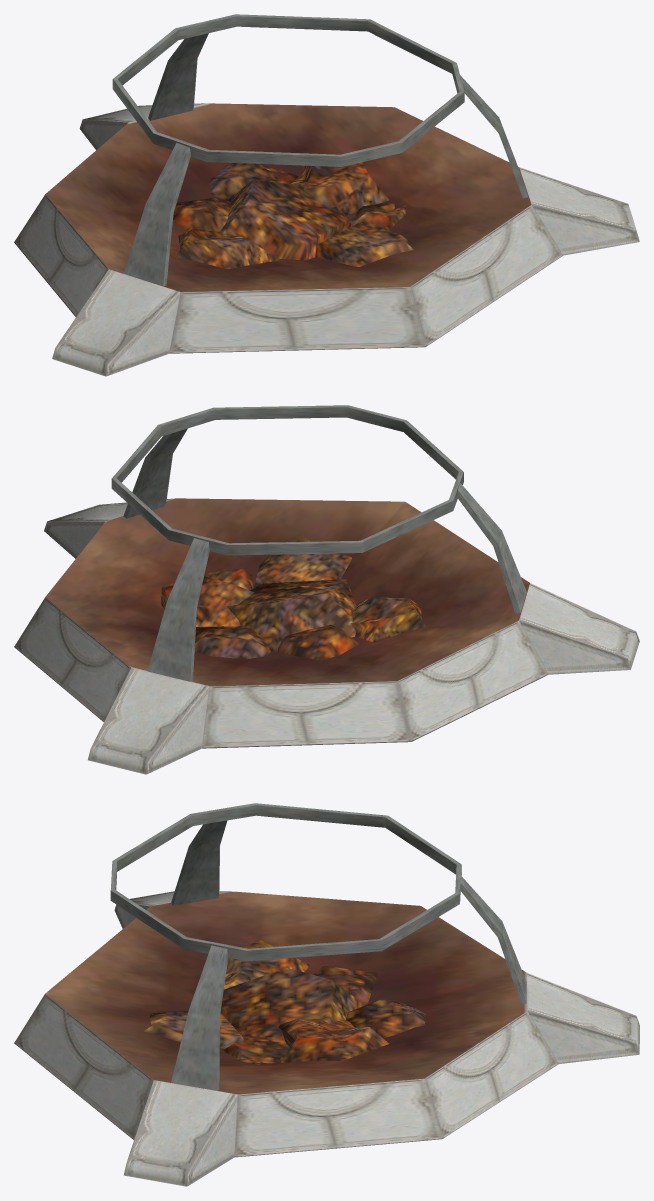
The model's file is thm_corl_fountain_brazier_round_s01_l2.fbx.
3 views of the same model, one above another, from view 1: azimuth 30°, elevation 25°; view 2: azimuth 150°, elevation 25°; view 3: azimuth 270°, elevation 25° (orthographic).
Visible parts, largest first — view 1: mesh_node; view 2: mesh_node; view 3: mesh_node.
Part boxes in pixels (box(x1,y1,x2,y2)): mesh_node: box(14, 14, 639, 376); mesh_node: box(14, 405, 639, 774); mesh_node: box(14, 803, 639, 1186).
Size of the model in its own units: 9.68 by 2.59 by 8.91.
Materials: 1 (1 with a texture image).
